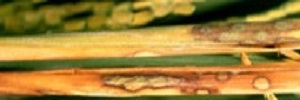RiceSheathBrownRot: (1, 23, 300, 63), (2, 65, 300, 96)
